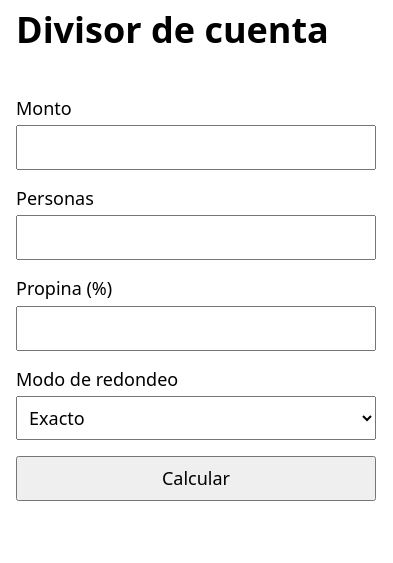
Test case: PantallaDivisor: entradas inválidas (US2) › un error después de un resultado oculta el importe (nunca ambos)
Type "90" into the field labelled "Monto" at (196, 147), box [16,125,376,170]
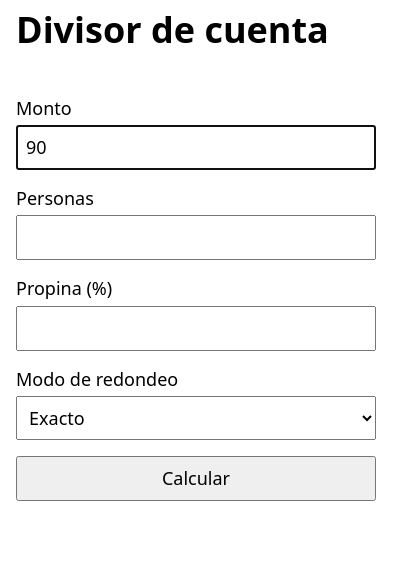
Type "3" into the field labelled "Personas" at (196, 238), box [16,215,376,260]
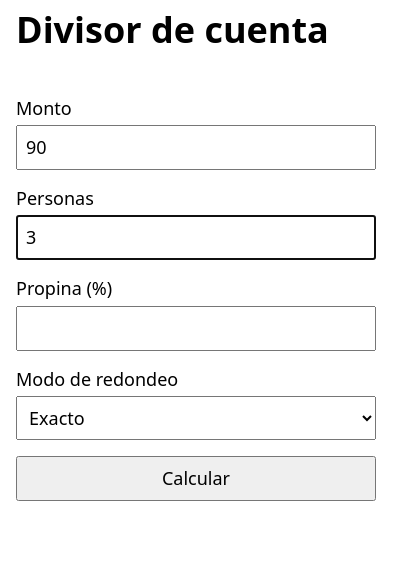
Type "0" into the field labelled "Propina (%)" at (196, 328), box [16,306,376,351]
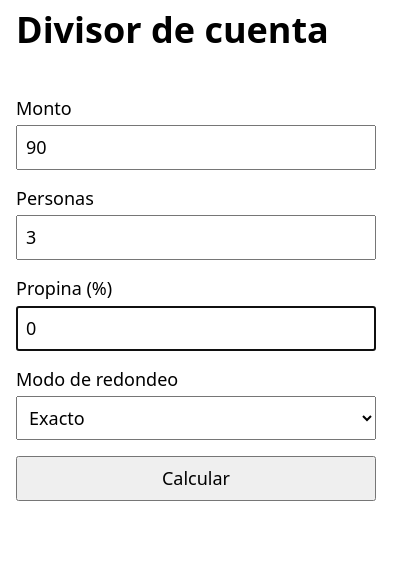
Click the button "Calcular" at (196, 478), box [16,456,376,501]
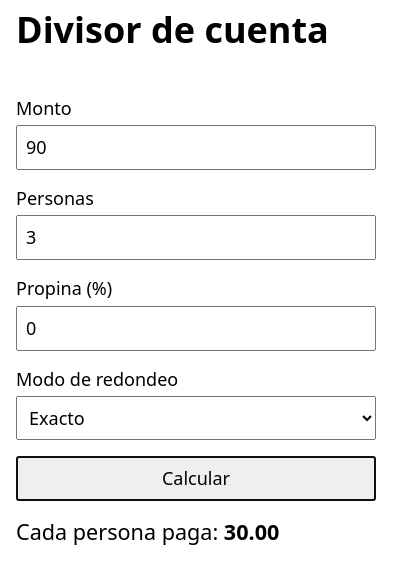
Now the text "30.00" is shown, box [224,517,279,546]
Replace the text in the field labelled "Monto" with "abc" at (196, 147), box [16,125,376,170]
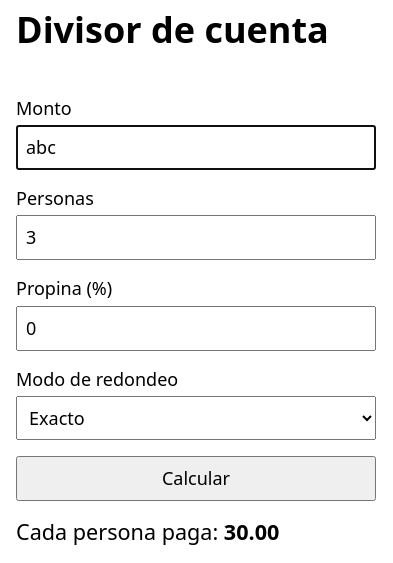
Click the button "Calcular" at (196, 478), box [16,456,376,501]
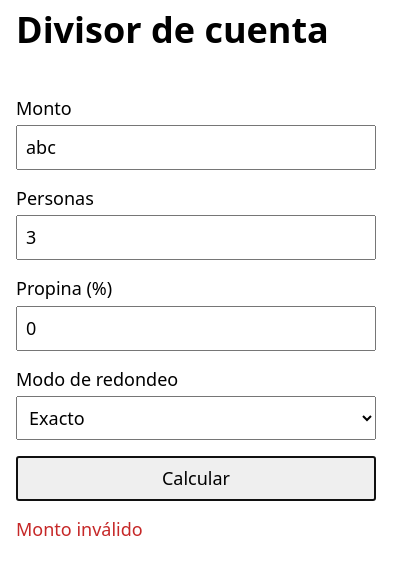
Now the message reads "Monto inválido", box [16,517,143,541]
Now the text "30.00" is gone
